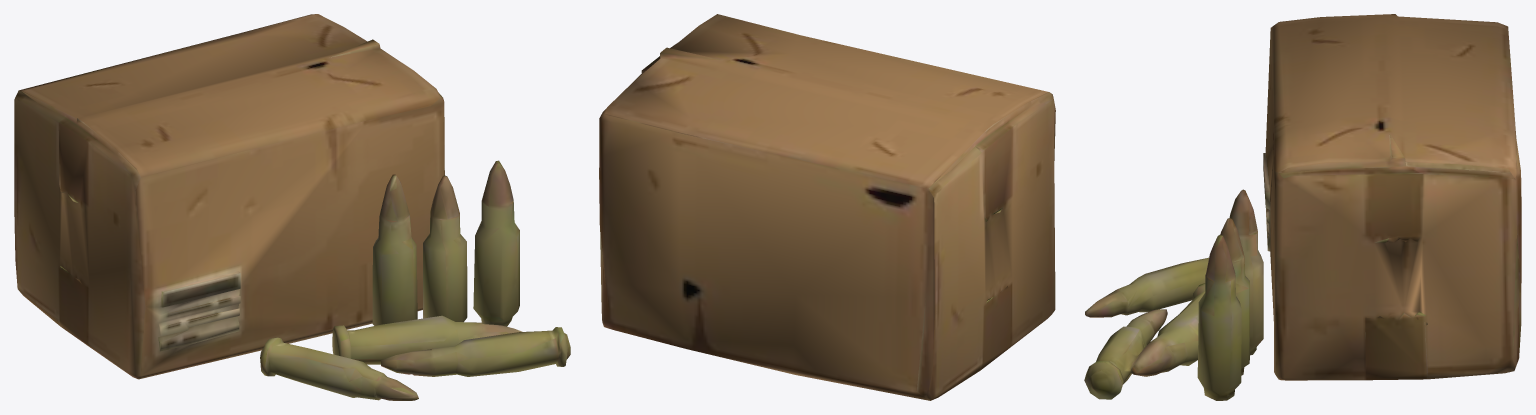
Rendered from ammo_762.glb.
3 renders of one model, left to right at view 1: azimuth 30°, elevation 25°; view 2: azimuth 150°, elevation 25°; view 3: azimuth 270°, elevation 25°, orthographic. The views are drawn at different scales.
Visible parts, largest first — view 1: Mesh1.0; view 2: Mesh1.0; view 3: Mesh1.0.
Boxes of the visible parts, box(x1,y1,x2,y2) form: Mesh1.0: box(14, 14, 570, 400); Mesh1.0: box(599, 14, 1055, 400); Mesh1.0: box(1084, 14, 1521, 400).
Bounding box in the file's own units: 1.81 × 1.1 × 1.91.
1 material, 1 textured.
